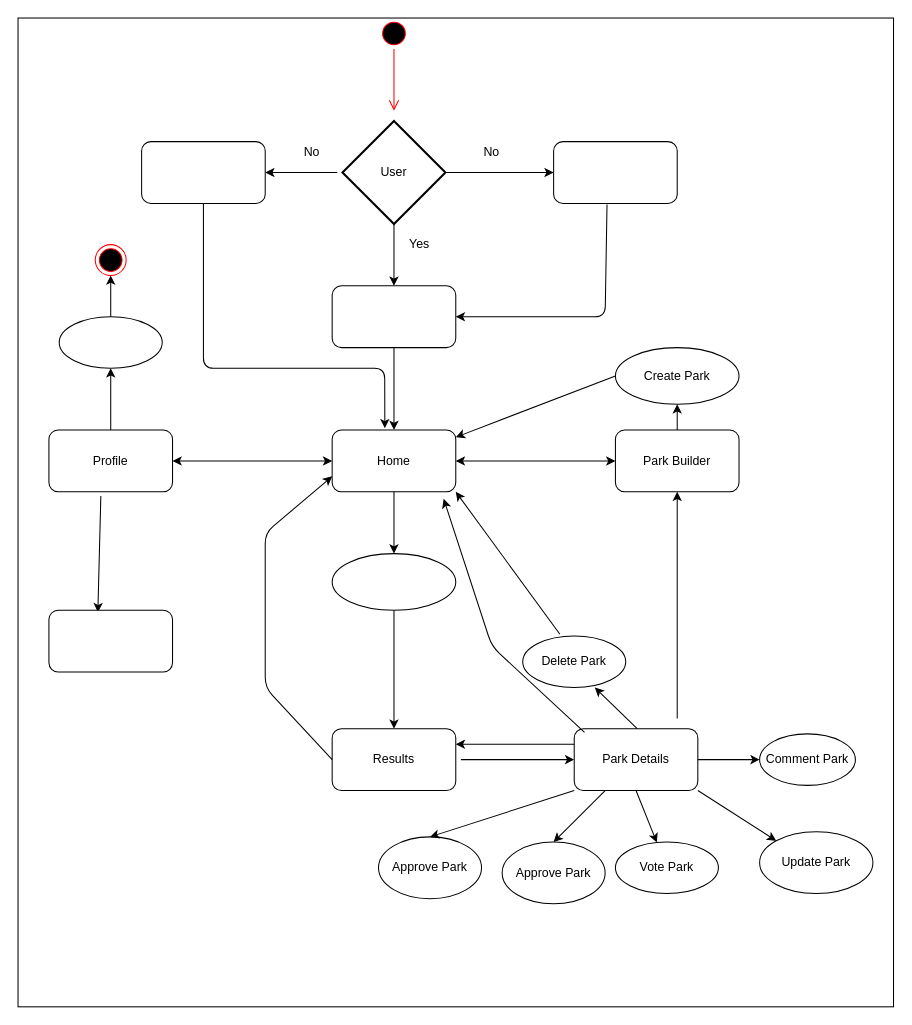
The diagram is 912 pixels wide and 1025 high, and some of its shapes have lost their labels. The shapes that lost their labels are listed below. From the top down, each one's centre as x and y in pixels, then its label:
At (203,172): "Guest".
At (615,172): "Register".
At (393,316): "Login".
At (110,342): "Logout".
At (393,581): "Search Parks".
At (110,640): "My Parks".
